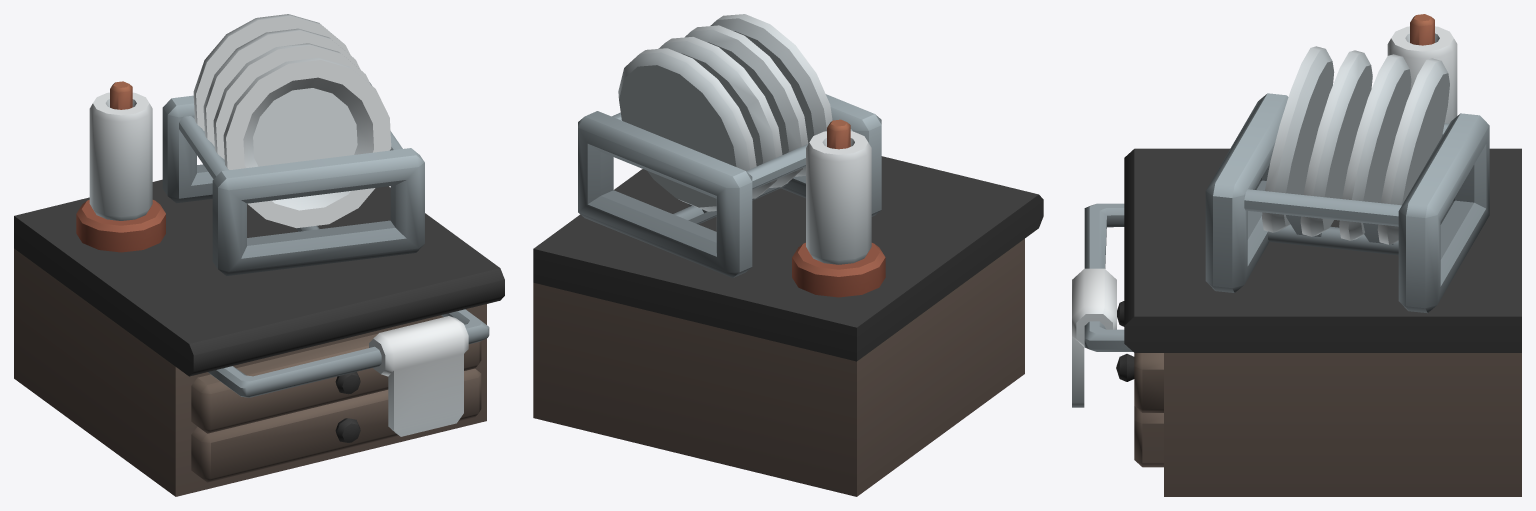
Rendered from kitchencounter_straight_A_decorated_styleB.obj.
3 renders of one model, left to right at view 1: azimuth 30°, elevation 25°; view 2: azimuth 150°, elevation 25°; view 3: azimuth 270°, elevation 25°, orthographic. The views are drawn at different scales.
Parts seen in each view (by area): view 1: kitchencounter_straight_A_decorated_styleB_Cube.032; view 2: kitchencounter_straight_A_decorated_styleB_Cube.032; view 3: kitchencounter_straight_A_decorated_styleB_Cube.032.
Part boxes in pixels (x1,y1,x2,y2): kitchencounter_straight_A_decorated_styleB_Cube.032: (14, 14, 504, 496); kitchencounter_straight_A_decorated_styleB_Cube.032: (533, 14, 1043, 496); kitchencounter_straight_A_decorated_styleB_Cube.032: (1072, 14, 1521, 496).
Bounding box in the file's own units: 2.01 × 2.1 × 2.26.
1 material, 1 textured.
